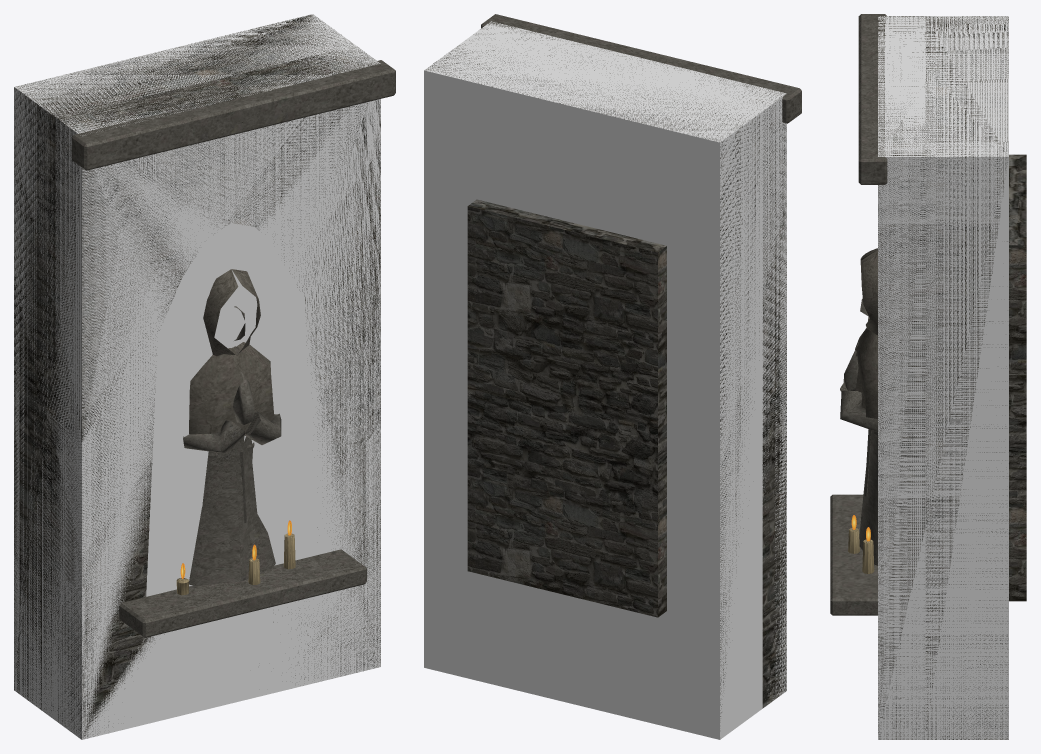
File: wall_niche_saint_v1_lite.glb
3 views of the same model, side by side, from view 1: azimuth 30°, elevation 25°; view 2: azimuth 150°, elevation 25°; view 3: azimuth 270°, elevation 25° (orthographic). The views are drawn at different scales.
Parts seen in each view (by area): view 1: col_niche, niche; view 2: col_niche, niche; view 3: col_niche, niche.
Boxes of the visible parts, x1,y1,x2,y2 form: col_niche: (14, 14, 380, 739); niche: (14, 14, 395, 739); col_niche: (424, 21, 786, 739); niche: (425, 14, 801, 722); col_niche: (878, 16, 1008, 739); niche: (830, 14, 1026, 739).
Size of the model in its own units: 1.46 by 2.7 by 0.825.
7 materials, 7 textured.
